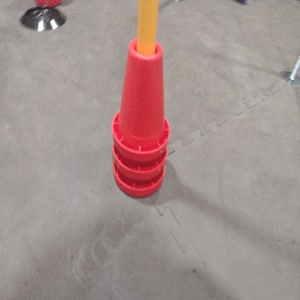Red_3: (112, 40, 169, 195)
